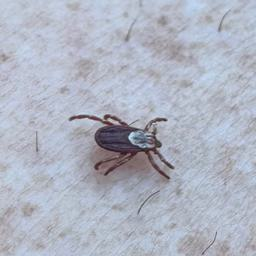Dermacentor variabilis: (69, 114, 173, 180)
